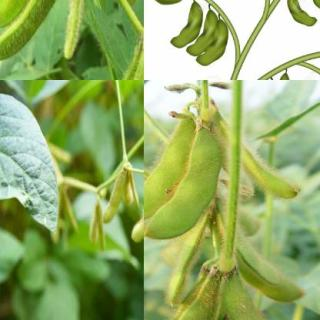soya: (144, 129, 221, 240), (144, 121, 194, 222), (0, 0, 71, 62), (239, 239, 305, 299), (164, 215, 208, 305), (222, 276, 300, 320), (144, 275, 221, 319), (243, 147, 298, 198), (88, 43, 139, 79), (196, 20, 228, 67), (170, 2, 202, 48), (185, 11, 217, 56), (62, 0, 83, 57), (101, 174, 124, 223), (285, 0, 318, 28), (116, 47, 143, 79), (131, 178, 143, 244)
